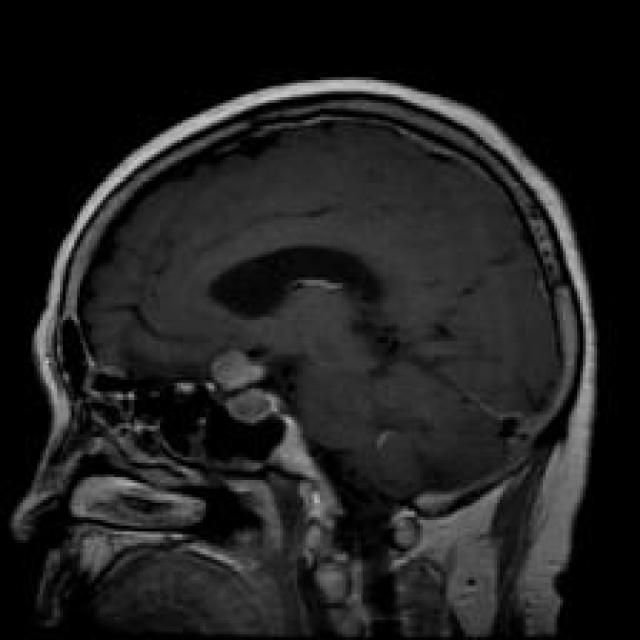pituitary_tumor: (194, 331, 298, 438)
